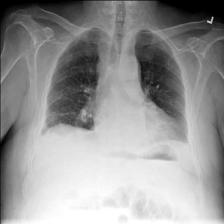normal: (38, 24, 194, 148)
